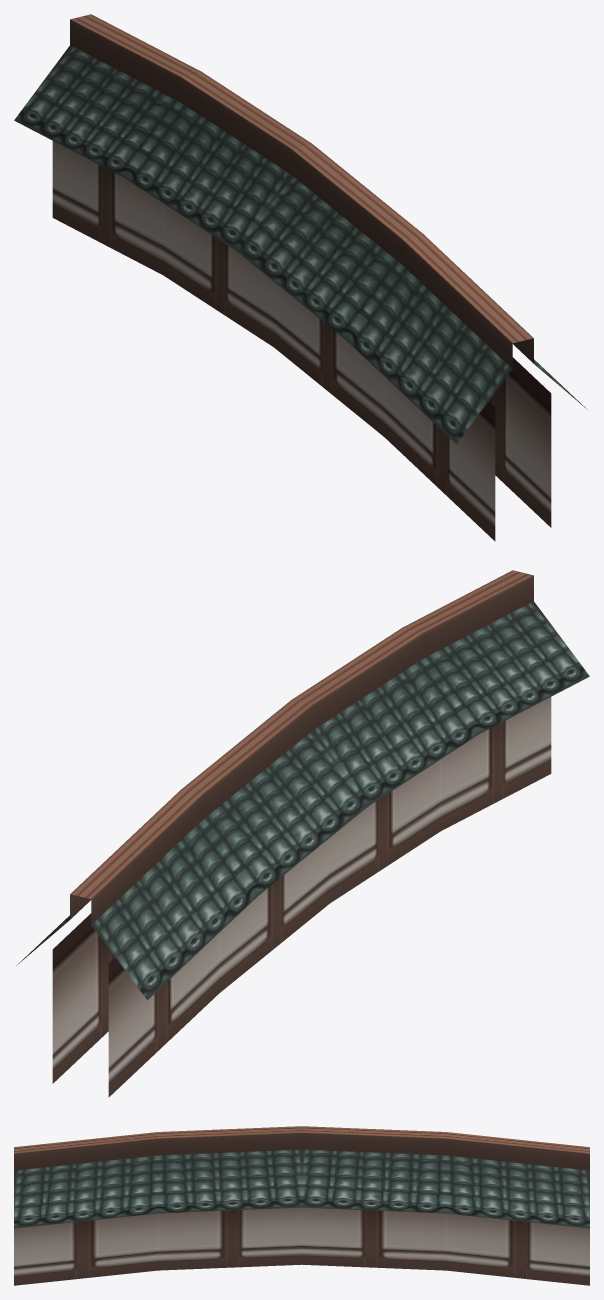
File: zhucheng01_yuanqiang.FBX
3 views of the same model, one above another, from view 1: azimuth 30°, elevation 25°; view 2: azimuth 150°, elevation 25°; view 3: azimuth 270°, elevation 25° (orthographic). The views are drawn at different scales.
Visible parts, largest first — view 1: Box39; view 2: Box39; view 3: Box39.
Boxes of the visible parts, bbox=[...] form: Box39: bbox=[14, 14, 587, 541]; Box39: bbox=[16, 570, 589, 1097]; Box39: bbox=[14, 1126, 589, 1285].
Bounding box in the file's own units: 3.46 × 5.62 × 19.91.
